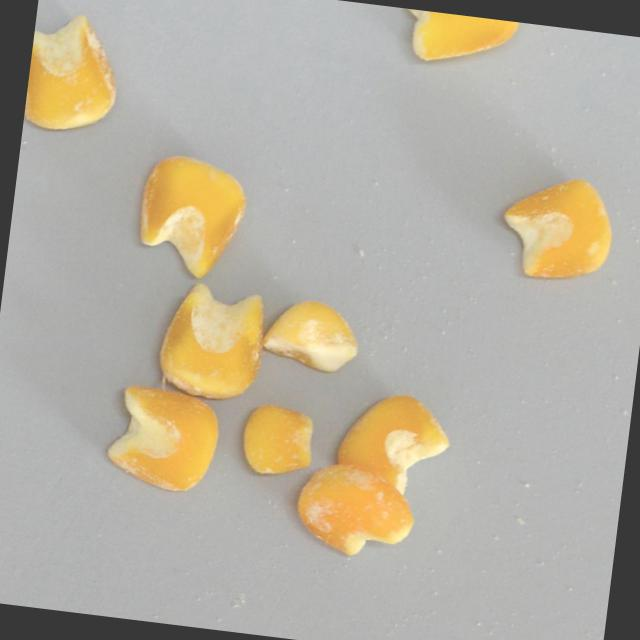no_canjicado: (331, 388, 455, 504), (239, 402, 315, 479)
pelicula: (132, 151, 252, 283), (154, 277, 270, 403), (496, 169, 619, 286), (101, 381, 223, 495), (288, 458, 418, 564), (22, 7, 125, 136), (392, 7, 522, 72), (260, 294, 363, 375)
